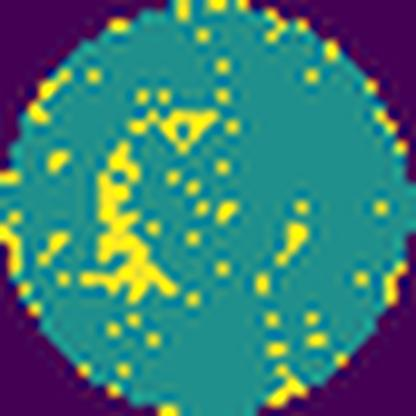Loc: (81, 138, 178, 300), (129, 107, 215, 151)
